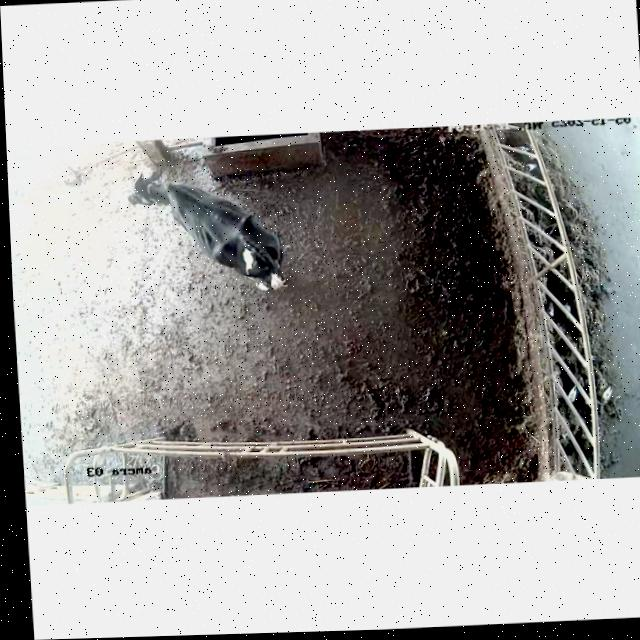stand: (109, 155, 307, 305)
